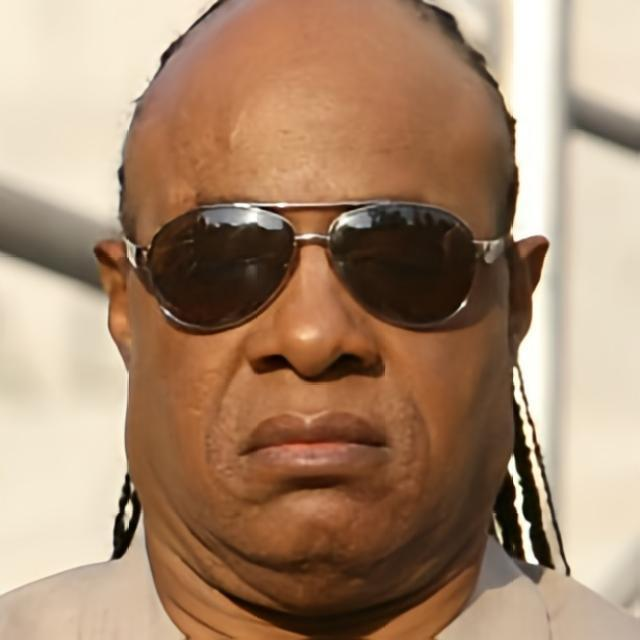disgust: (127, 38, 516, 567)
